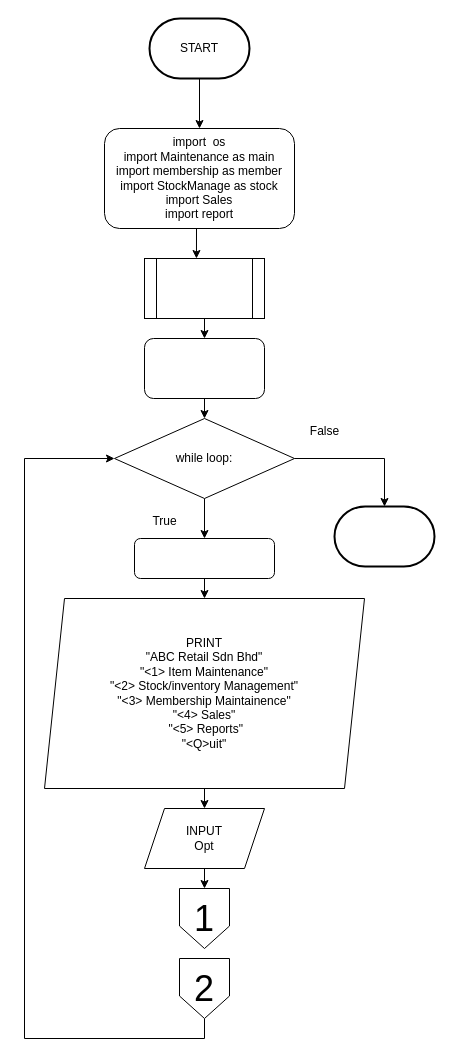
Some shapes in this 453 by 1064 pixel diagram are drawn without their labels. Each missing label, with the box of its shape:
def menu(): (144, 258, 264, 318)
END: (333, 505, 435, 567)
loop = True: (144, 338, 264, 398)
os.system("cls"): (134, 538, 274, 578)
